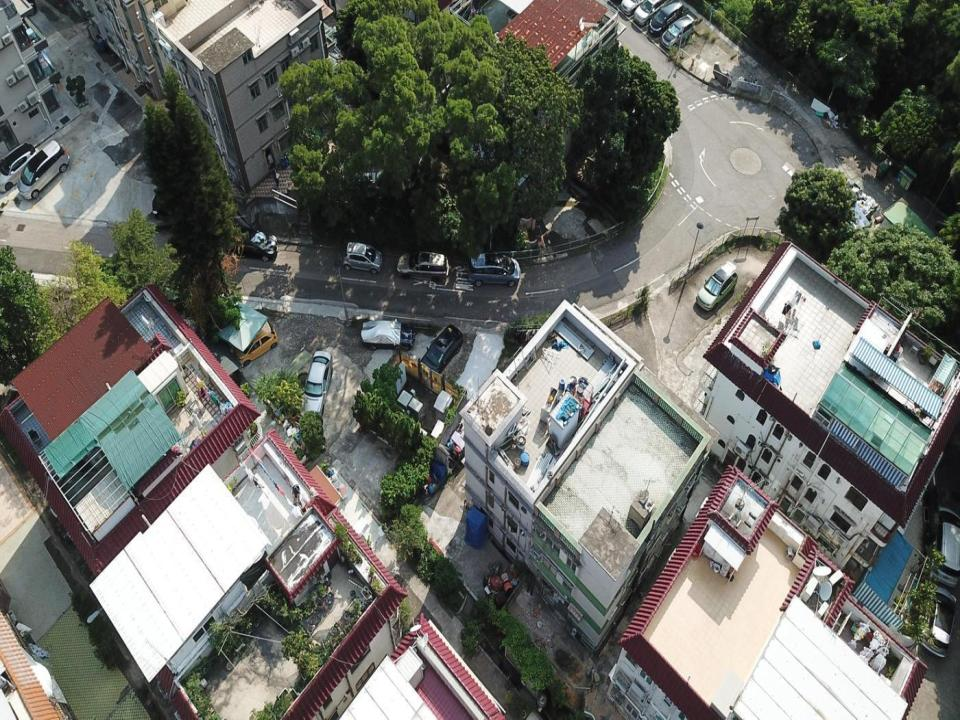car: (16, 139, 70, 200), (919, 585, 957, 659), (418, 323, 464, 381), (928, 506, 960, 588), (300, 351, 333, 421), (232, 318, 279, 367), (696, 260, 738, 312), (0, 140, 38, 193), (360, 317, 416, 351), (467, 252, 521, 287), (224, 228, 278, 262), (395, 252, 450, 284), (342, 240, 382, 275), (647, 0, 684, 36), (661, 14, 696, 49), (633, 0, 671, 26), (619, 0, 645, 16)
